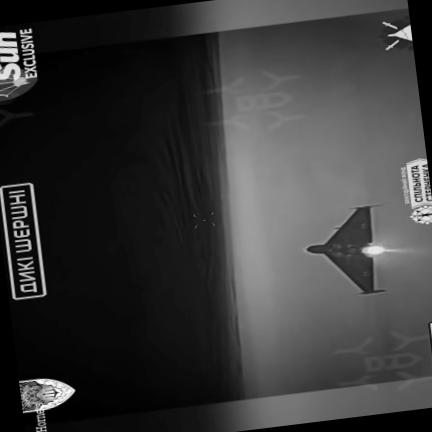Shahed: (305, 204, 386, 294)
